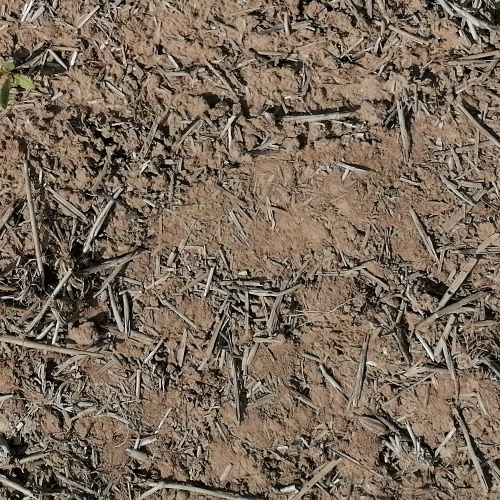beet: (0, 58, 35, 109)
